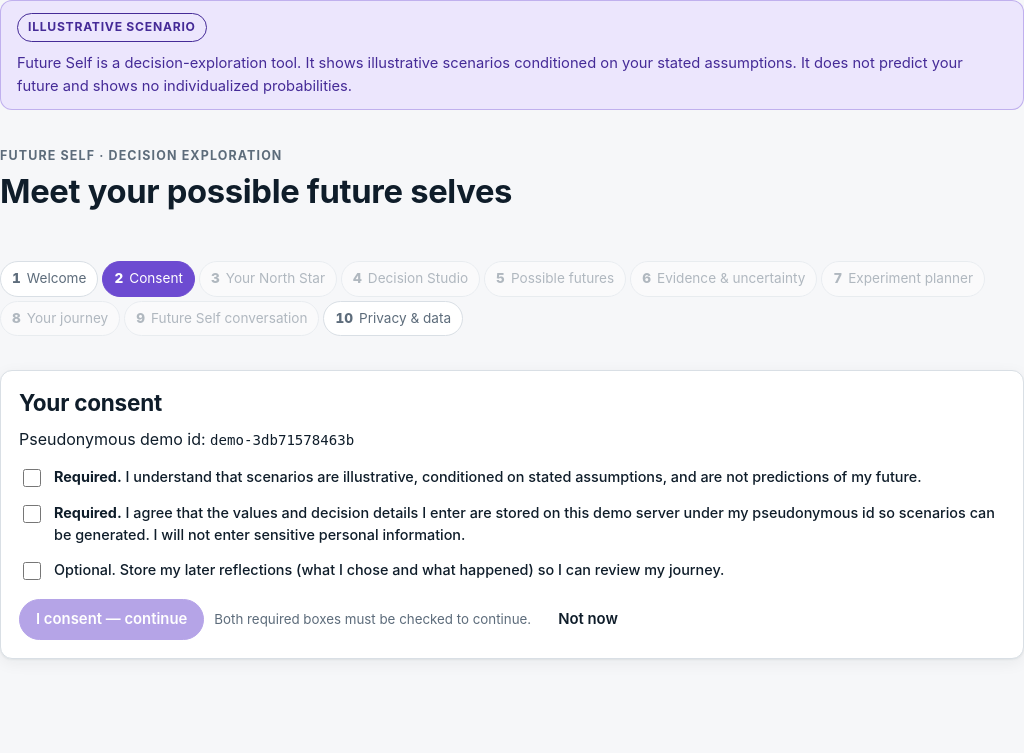
Scenario: Future Self consent gate › stays locked when consent cannot be recorded
What coordinates should you click on to do the following:
click the 1st checkbox
I would click on:
 (32, 478)
Its box is [23,469,41,487].
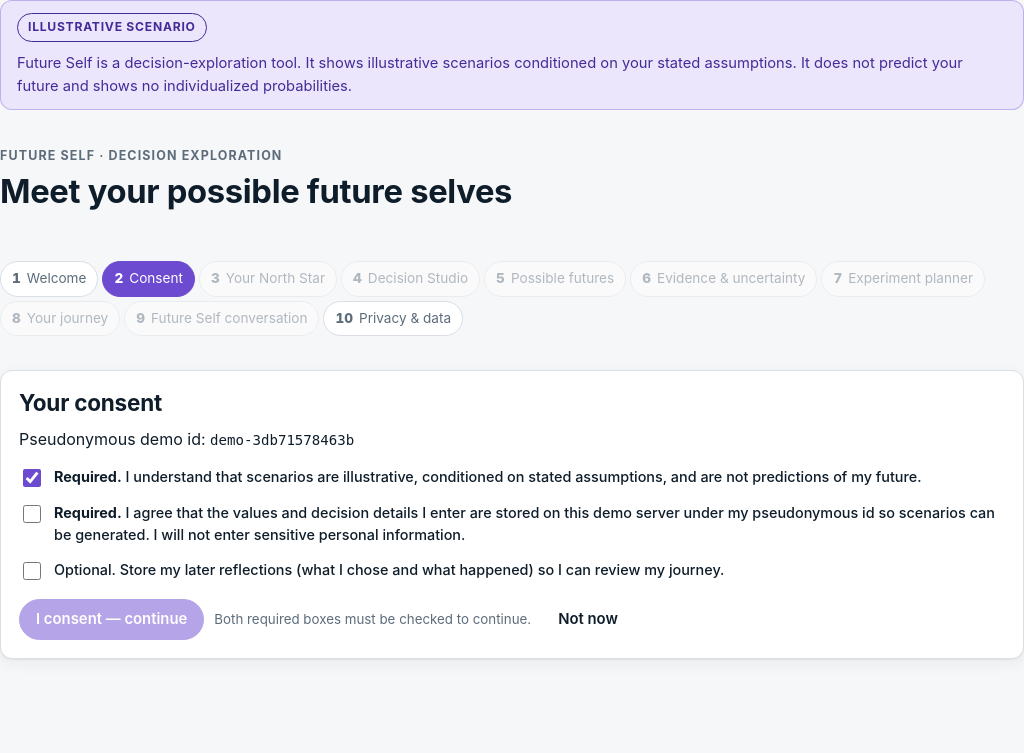
What coordinates should you click on to do the following:
click the 2nd checkbox
I would click on:
 (32, 514)
Its box is [23,505,41,523].
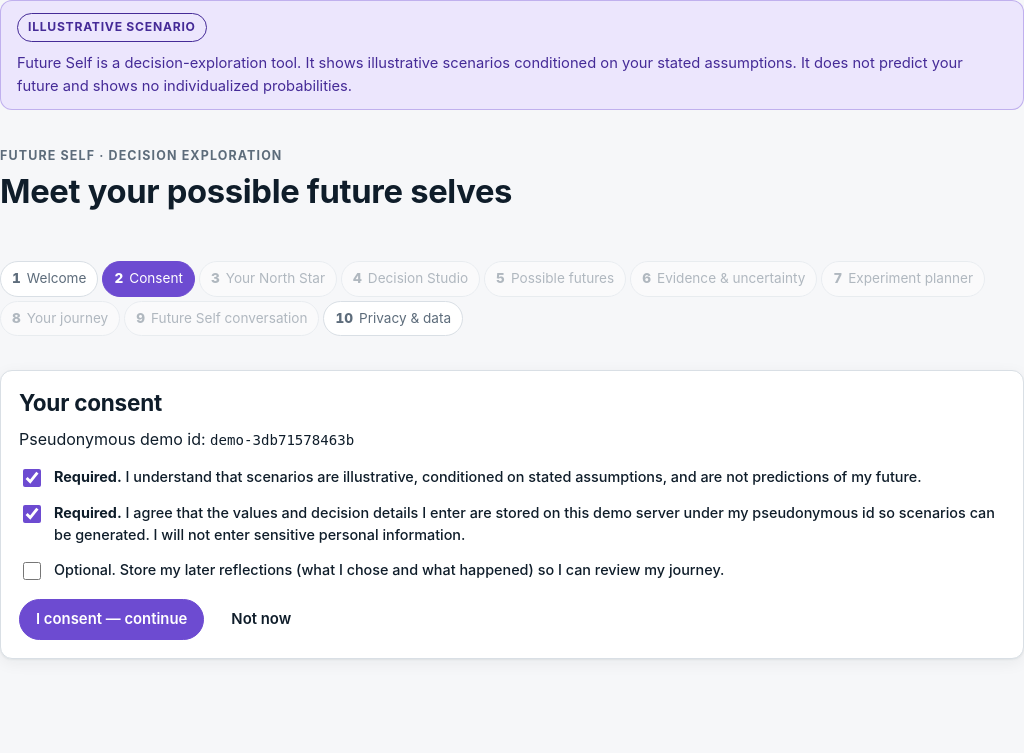
What coordinates should you click on to do the following:
click the button "I consent — continue"
I would click on:
 (112, 619)
Its box is [19,599,204,640].
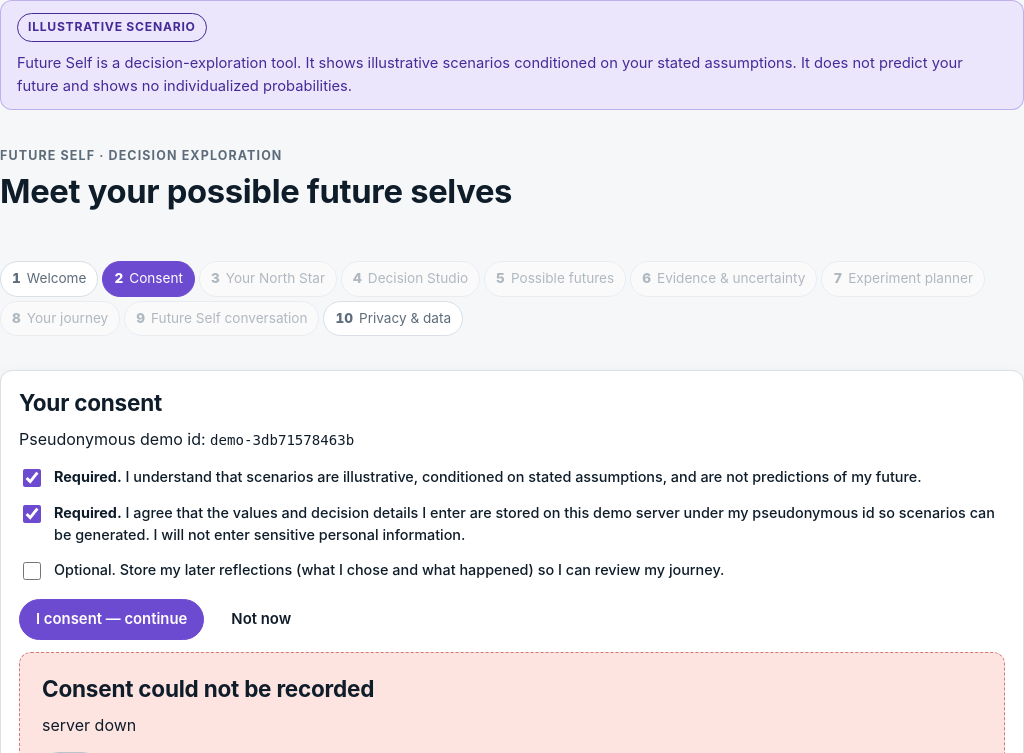
Check: the heading "Consent could not be recorded" is shown, box [42,675,374,702]
